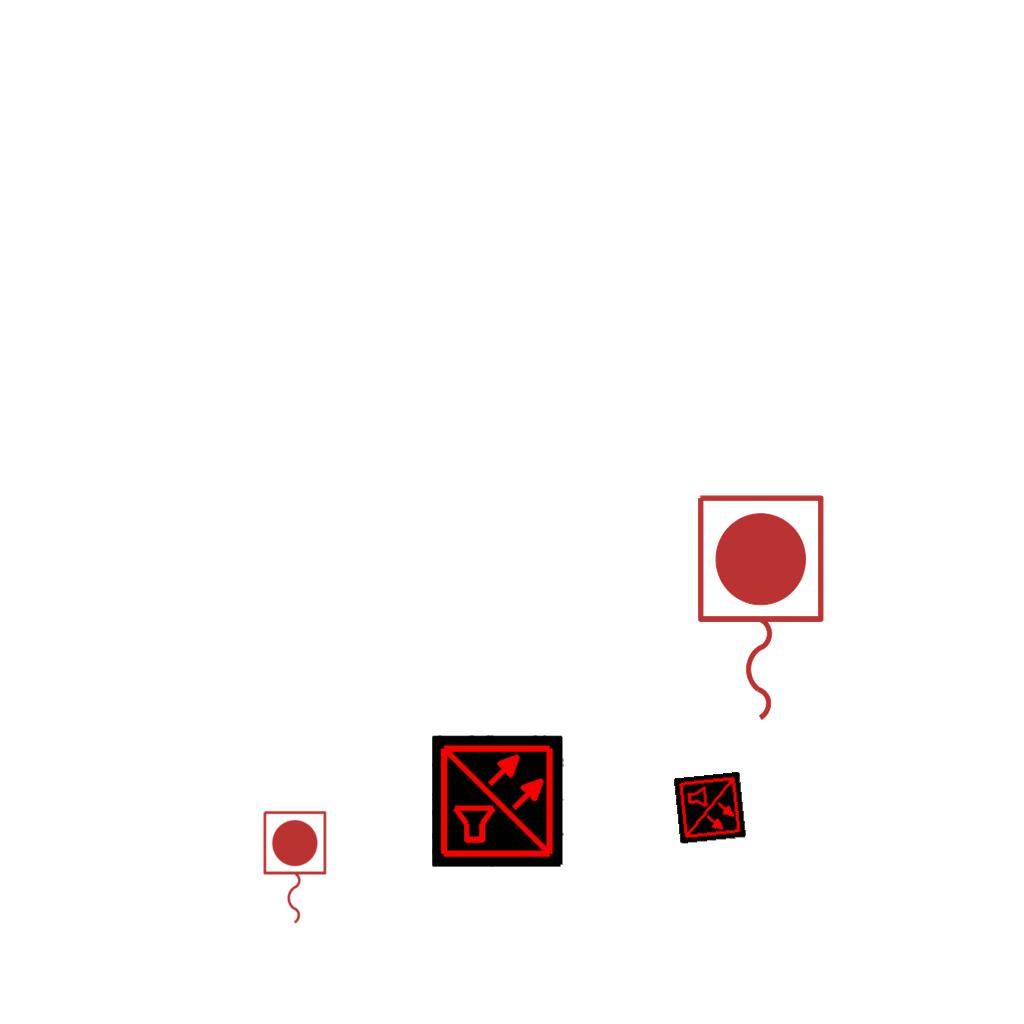OKW_Multisensormelder_(Kombination_optischer_Rauch-Kahlenmonoxid_Waerme-Melder): (432, 735, 564, 867), (673, 771, 747, 845)
Zugtaster: (687, 487, 831, 731), (258, 807, 330, 929)
